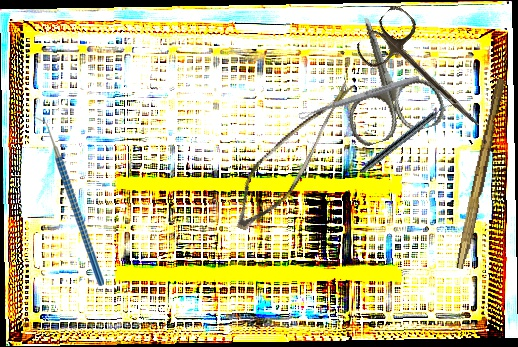Chopper: (33, 113, 104, 286)
Handpiece: (357, 99, 454, 177)
Iris Scissors: (351, 2, 503, 147), (321, 3, 449, 150)
Micro Scissor: (226, 59, 356, 247)
Scalpel Handle: (455, 77, 507, 271)
Surgical Spoon: (297, 73, 421, 121)
